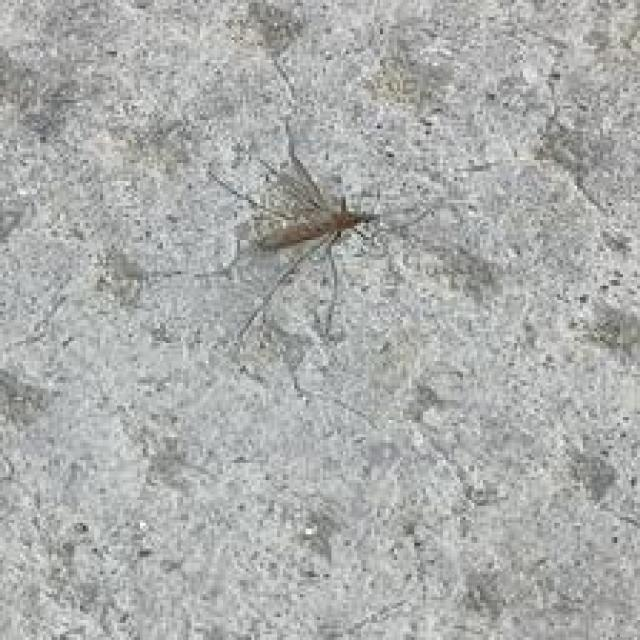Culex: (206, 119, 383, 350)
